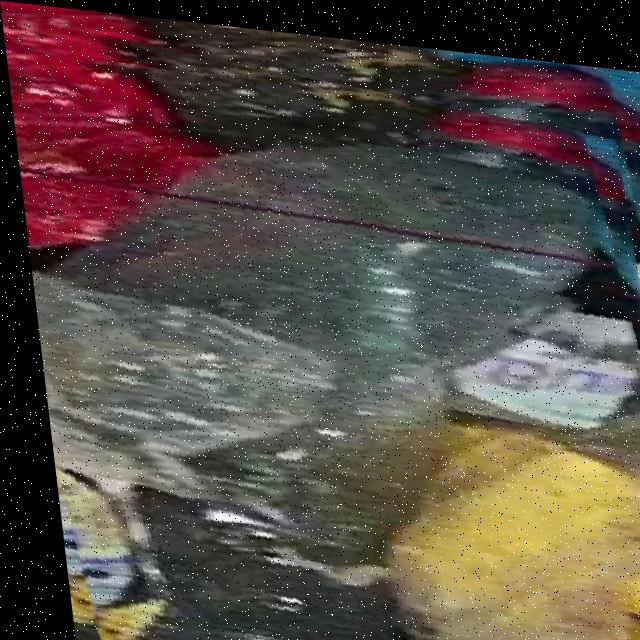litter: (1, 10, 640, 640)
